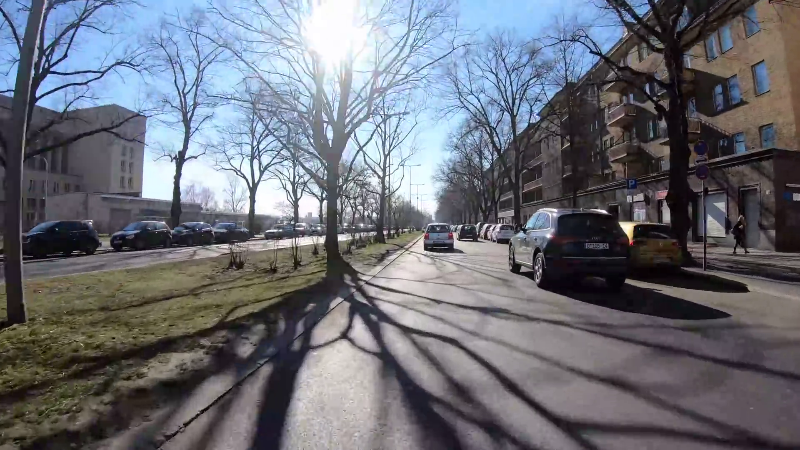Plate: (581, 242, 611, 250), (652, 256, 672, 264)
